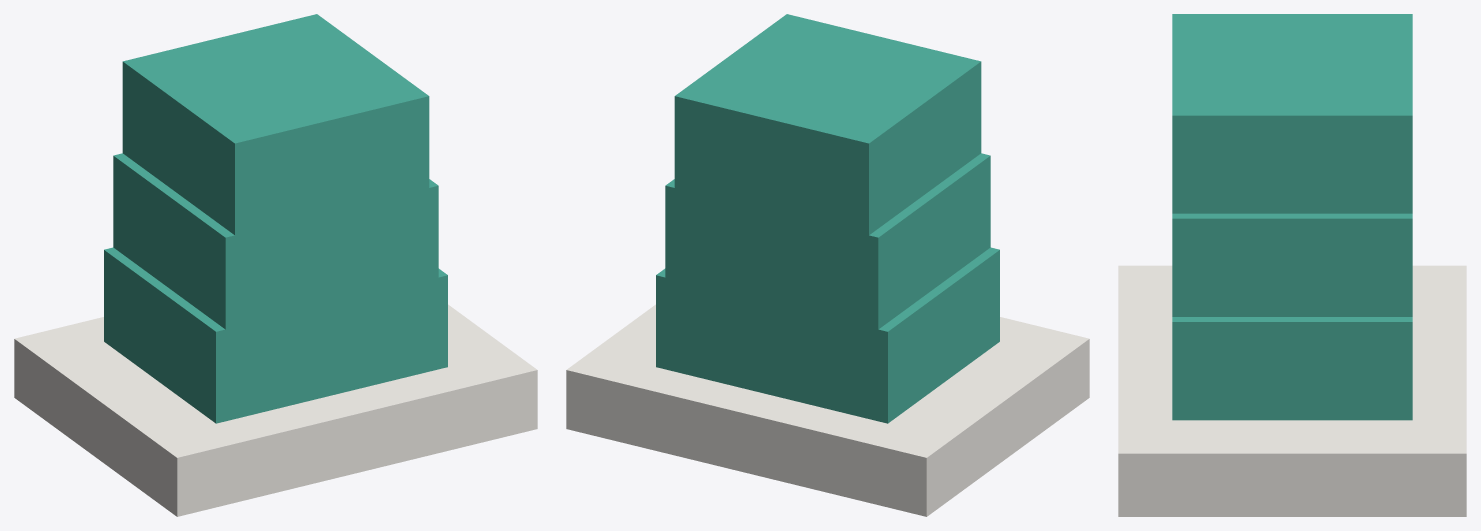
Rendered from message_board-lv3.glb.
3 renders of one model, left to right at view 1: azimuth 30°, elevation 25°; view 2: azimuth 150°, elevation 25°; view 3: azimuth 270°, elevation 25°, orthographic. The views are drawn at different scales.
Visible parts, largest first — view 1: Base, Level3, Level1, Level2; view 2: Base, Level3, Level1, Level2; view 3: Base, Level3, Level1, Level2.
Part boxes in pixels (x1=…): Base: x1=14, y1=304, x2=537, y2=516; Level3: x1=122, y1=14, x2=429, y2=235; Level1: x1=104, y1=247, x2=447, y2=423; Level2: x1=113, y1=153, x2=438, y2=329; Base: x1=566, y1=304, x2=1089, y2=516; Level3: x1=674, y1=14, x2=981, y2=235; Level1: x1=656, y1=247, x2=999, y2=423; Level2: x1=665, y1=153, x2=990, y2=329; Base: x1=1118, y1=265, x2=1466, y2=516; Level3: x1=1172, y1=14, x2=1412, y2=213; Level1: x1=1172, y1=317, x2=1412, y2=420; Level2: x1=1172, y1=213, x2=1412, y2=316.
Size of the model in its own units: 1.15 by 1.02 by 0.9.
